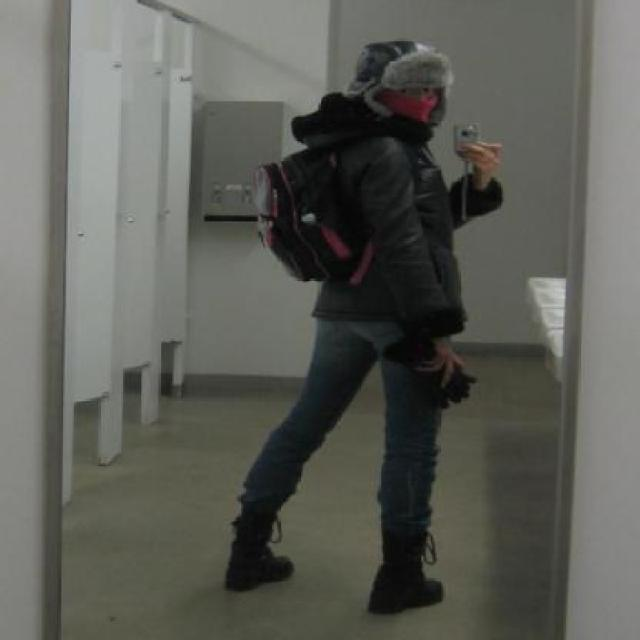backpack: (245, 140, 382, 291)
